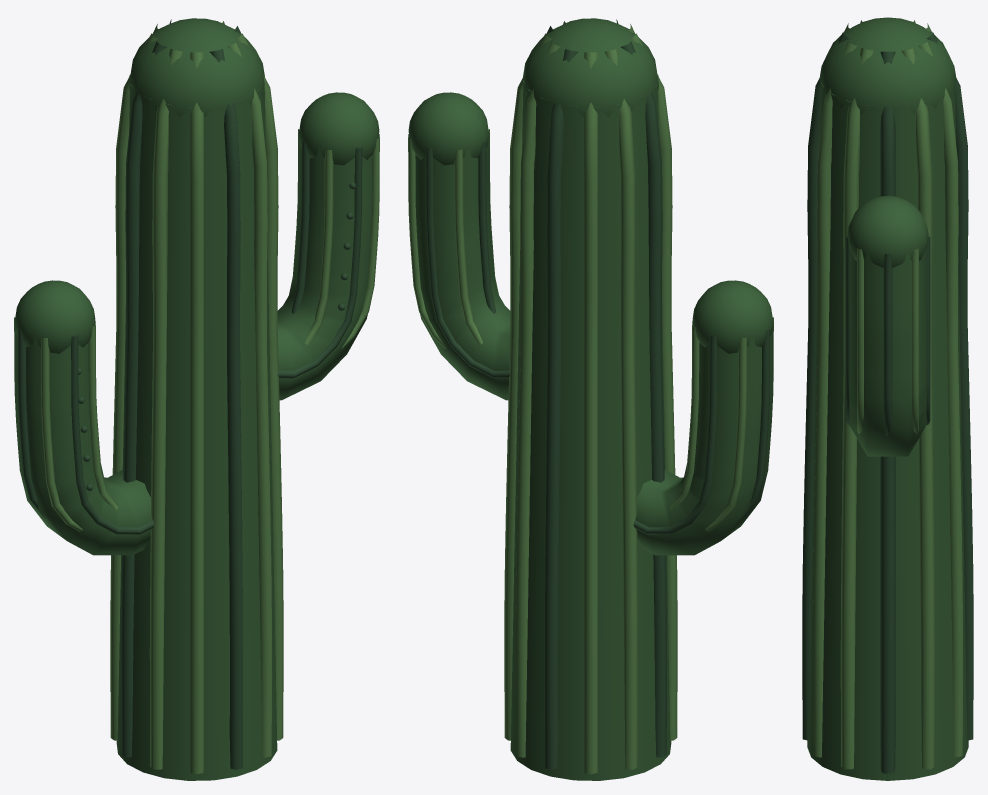
The model's file is mia-cactus.glb.
The picture shows the model from 3 angles, left to right: view 1: azimuth 30°, elevation 25°; view 2: azimuth 150°, elevation 25°; view 3: azimuth 270°, elevation 25°; orthographic projection.
Parts seen in each view (by area): view 1: Body_cactus-dark, Body_cactus-light, Body_cactus-shadow; view 2: Body_cactus-dark, Body_cactus-light, Body_cactus-shadow; view 3: Body_cactus-dark, Body_cactus-light, Body_cactus-shadow.
Part boxes in pixels (left/top/right/bottom): Body_cactus-dark: left=14, top=18, right=379, bottom=780; Body_cactus-light: left=14, top=21, right=379, bottom=774; Body_cactus-shadow: left=17, top=19, right=362, bottom=769; Body_cactus-dark: left=408, top=18, right=773, bottom=780; Body_cactus-light: left=408, top=21, right=773, bottom=774; Body_cactus-shadow: left=425, top=19, right=770, bottom=769; Body_cactus-dark: left=807, top=17, right=968, bottom=780; Body_cactus-light: left=813, top=20, right=962, bottom=769; Body_cactus-shadow: left=802, top=32, right=973, bottom=773.
Size of the model in its own units: 1.13 by 2.19 by 0.4711.
